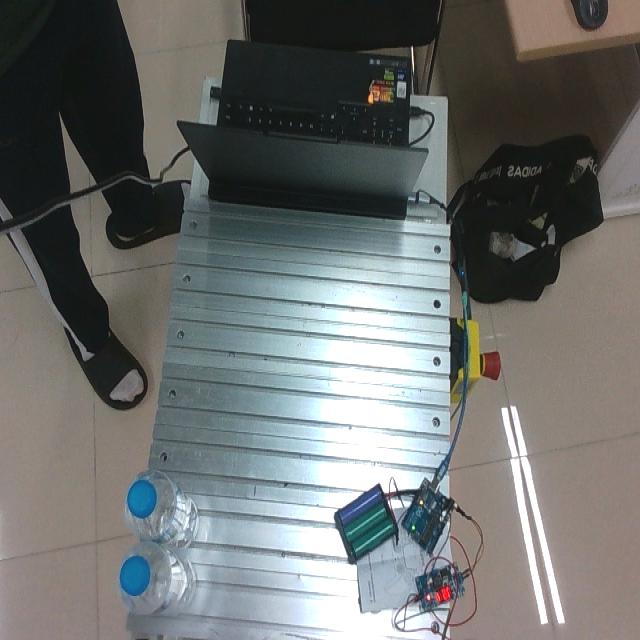lavie: (118, 539, 197, 616), (125, 468, 199, 547)
